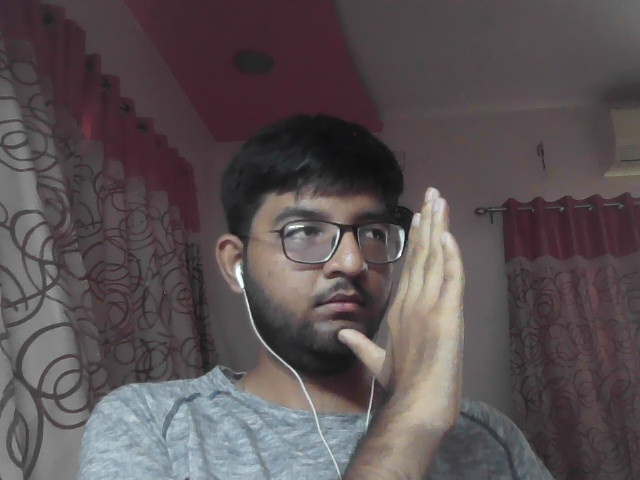માતા: (325, 178, 511, 445)
